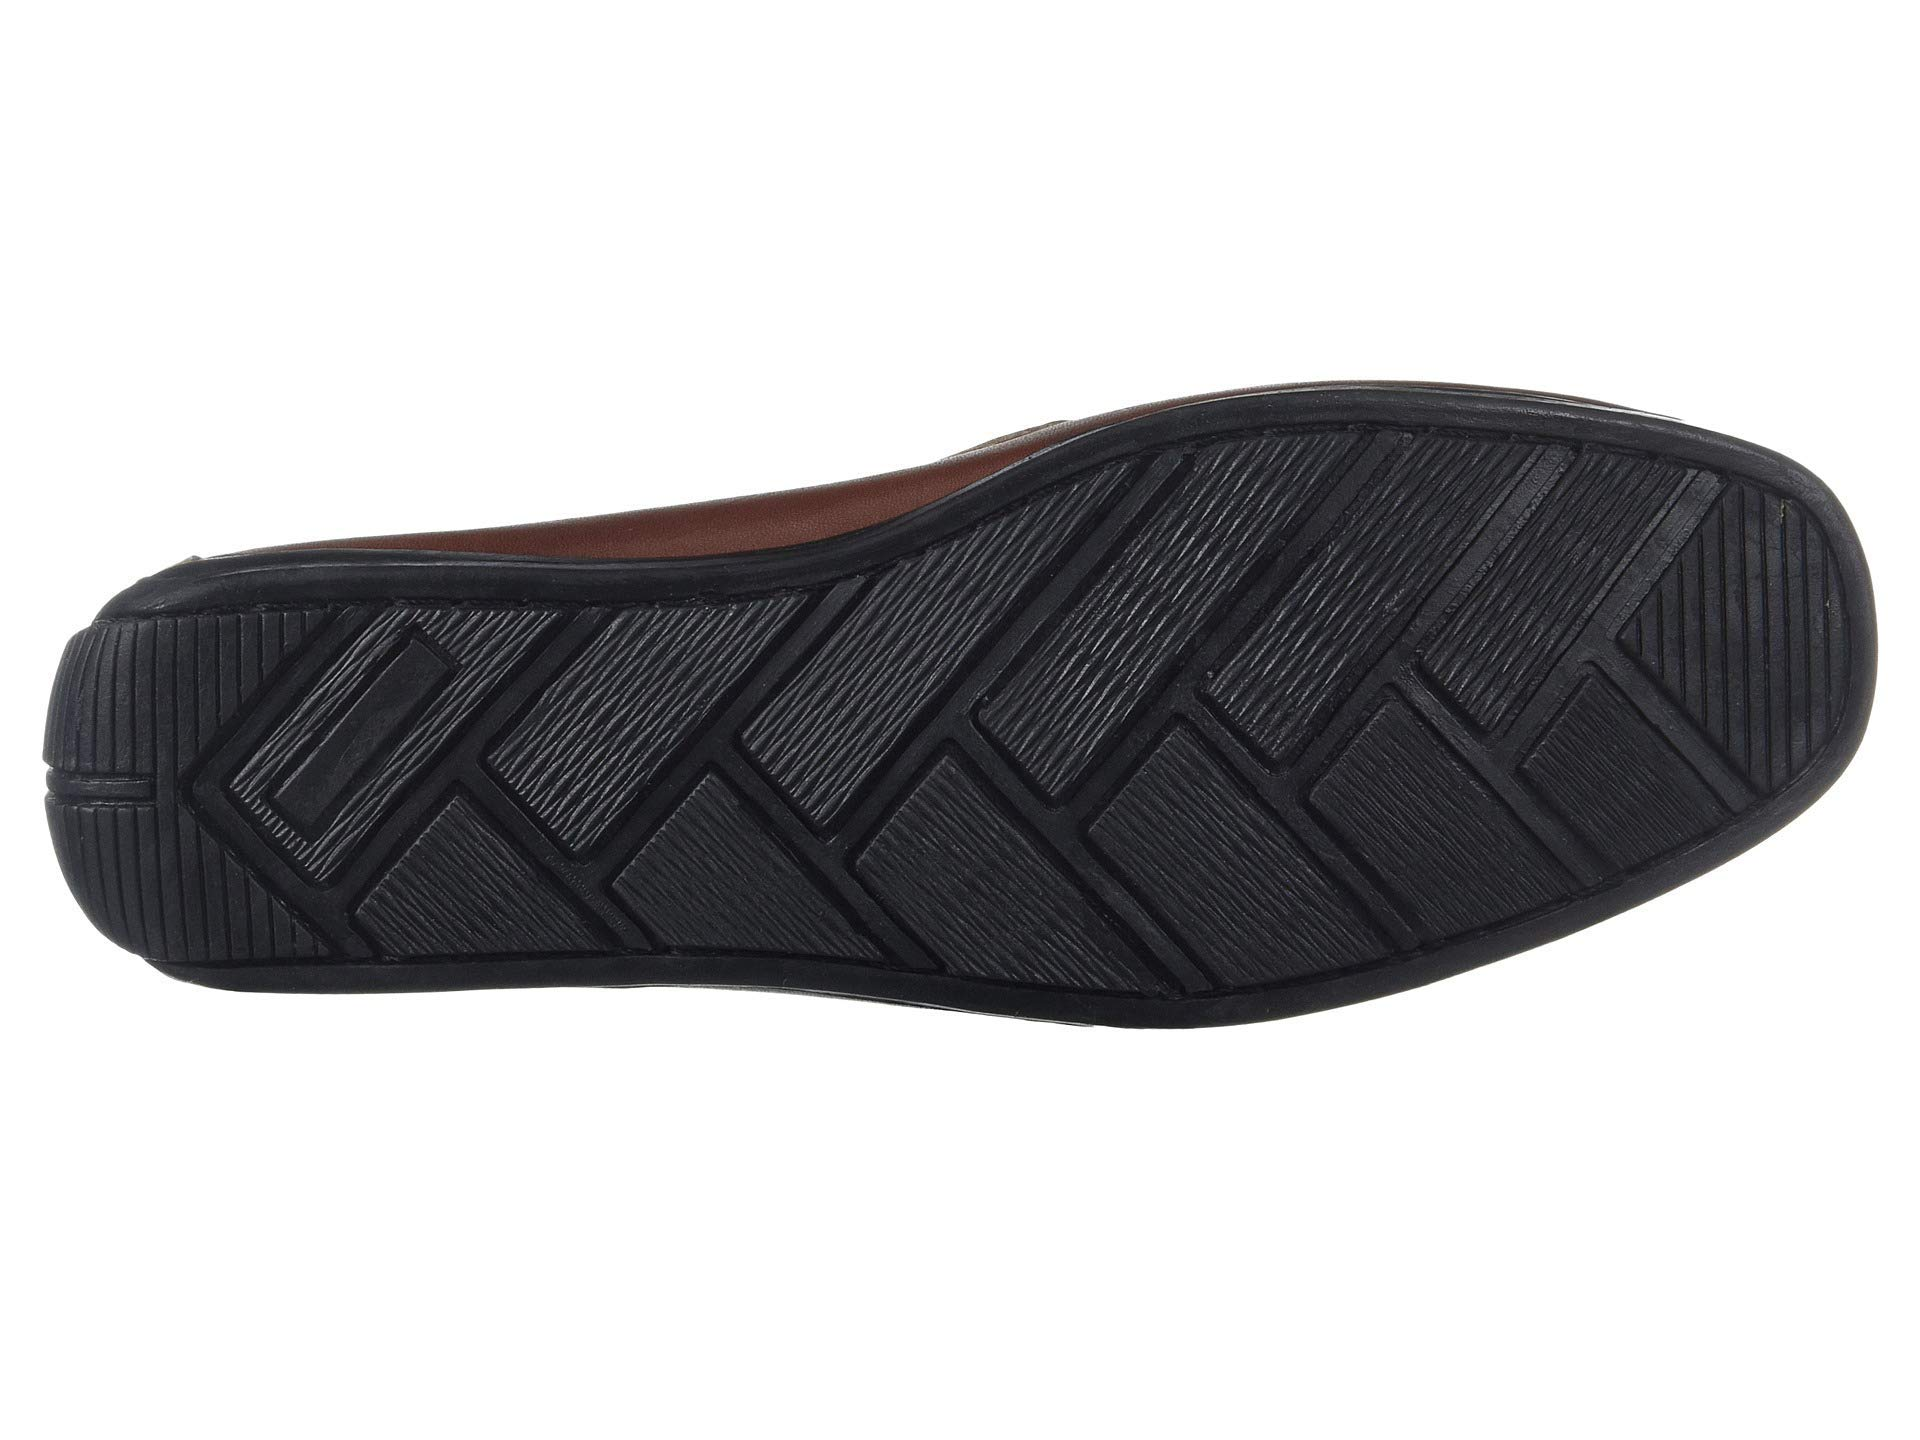line: (946, 552, 1370, 956), (181, 582, 514, 867), (1696, 582, 1820, 706)
quad: (1169, 408, 1680, 920), (946, 552, 1370, 956), (181, 582, 514, 867)
